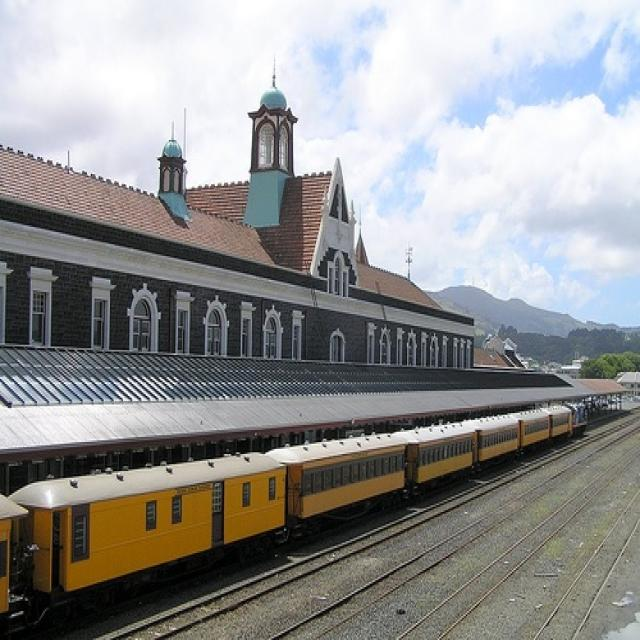train: (0, 398, 589, 633)
